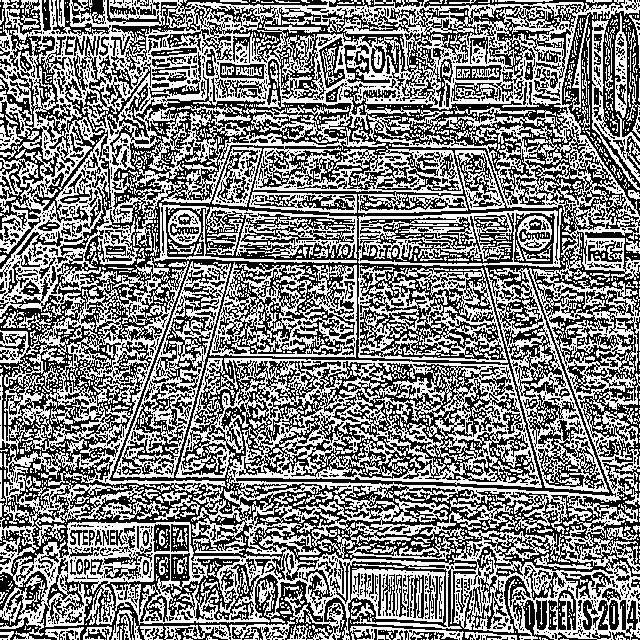left side: (453, 148, 610, 493), (111, 145, 262, 477)
player: (214, 352, 256, 520), (344, 64, 373, 144)
